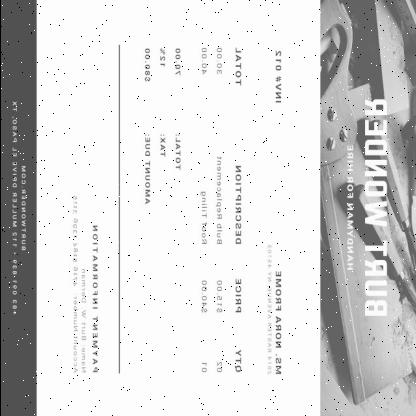Paragraph: (140, 43, 184, 207), (362, 96, 388, 320), (70, 192, 100, 376), (9, 98, 27, 318), (264, 240, 283, 379), (344, 142, 354, 274), (272, 45, 282, 106)
Table: (194, 42, 246, 380)
